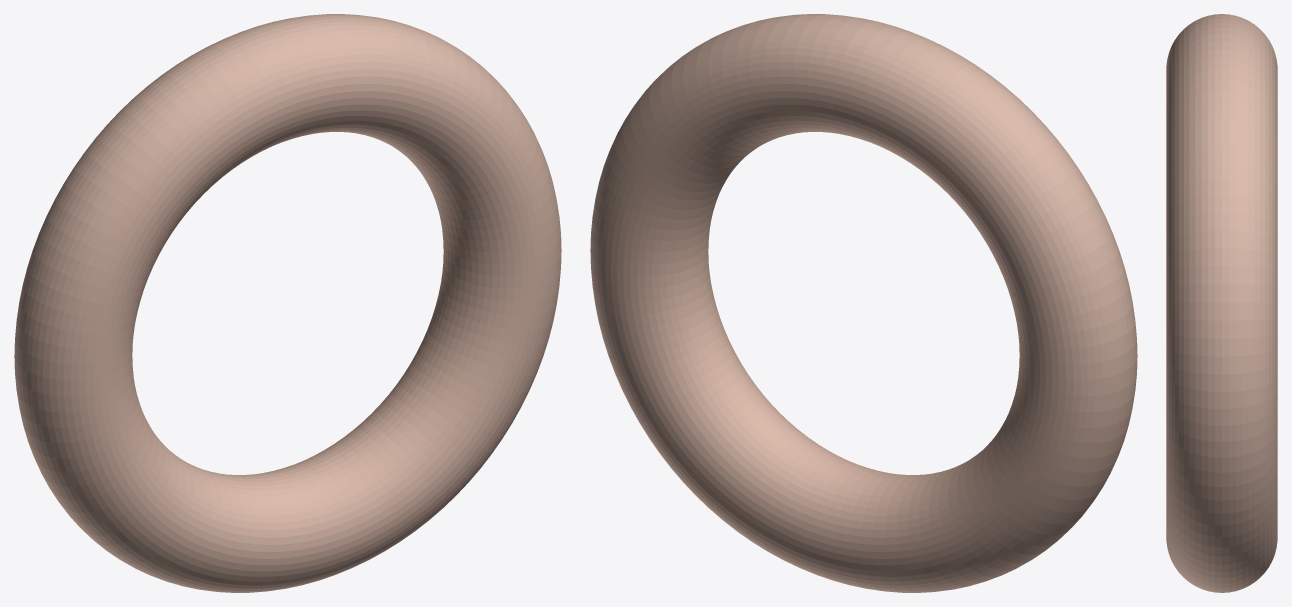
The picture shows the model from 3 angles, left to right: view 1: azimuth 30°, elevation 25°; view 2: azimuth 150°, elevation 25°; view 3: azimuth 270°, elevation 25°; orthographic projection. The views are drawn at different scales.
Visible parts, largest first — view 1: world; view 2: world; view 3: world.
Part boxes in pixels (left/top/right/bottom): world: left=14, top=14, right=561, bottom=592; world: left=590, top=14, right=1137, bottom=592; world: left=1166, top=14, right=1277, bottom=592.
Bounding box in the file's own units: 17.33 × 17.33 × 3.33.
